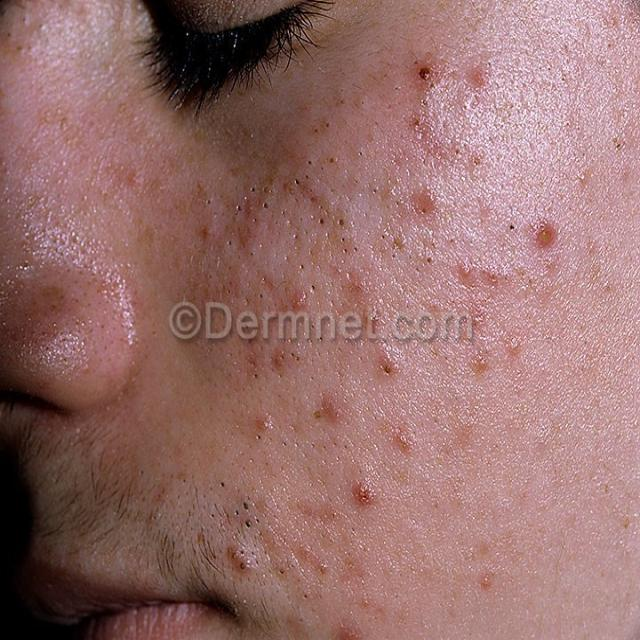Acne: (409, 109, 453, 164), (317, 388, 350, 429), (350, 472, 381, 512), (466, 58, 497, 98), (412, 53, 442, 93), (529, 218, 561, 255), (342, 266, 372, 304), (409, 182, 441, 216), (371, 348, 403, 382), (387, 417, 414, 454), (500, 329, 530, 362), (249, 406, 278, 439), (452, 252, 478, 288), (478, 262, 512, 289), (473, 564, 498, 596), (287, 286, 311, 313)
